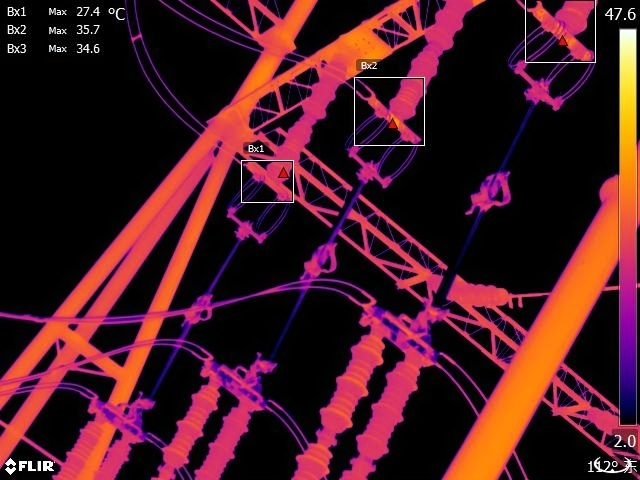insulator: (388, 1, 474, 121), (265, 60, 350, 176), (426, 272, 517, 315)
post insulator: (284, 333, 387, 480), (347, 356, 436, 480), (150, 381, 224, 480), (180, 407, 254, 480), (47, 413, 99, 480), (99, 437, 137, 480)
switch: (414, 78, 550, 330), (261, 126, 403, 358), (129, 215, 249, 402)
